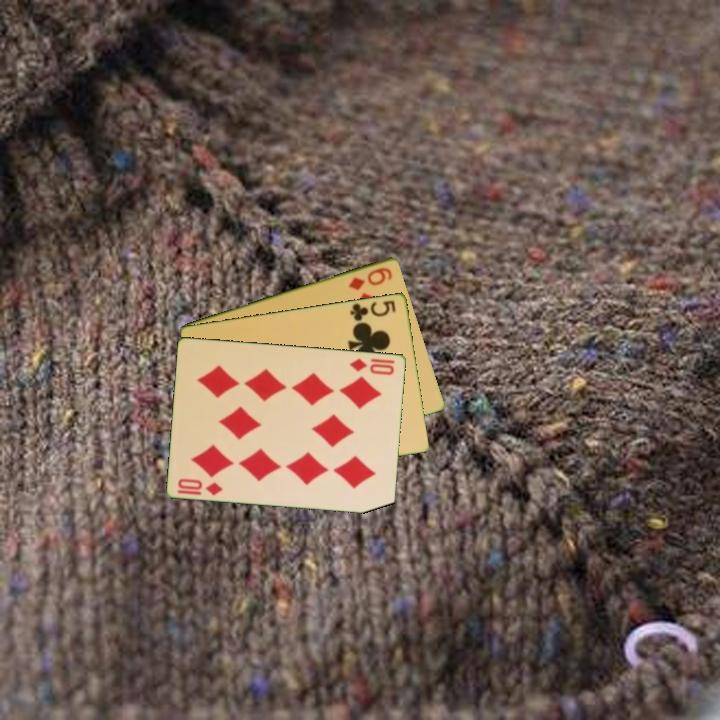10d: (346, 355, 397, 378), (175, 475, 226, 498)
5c: (347, 297, 399, 324)
6d: (345, 263, 395, 293)
